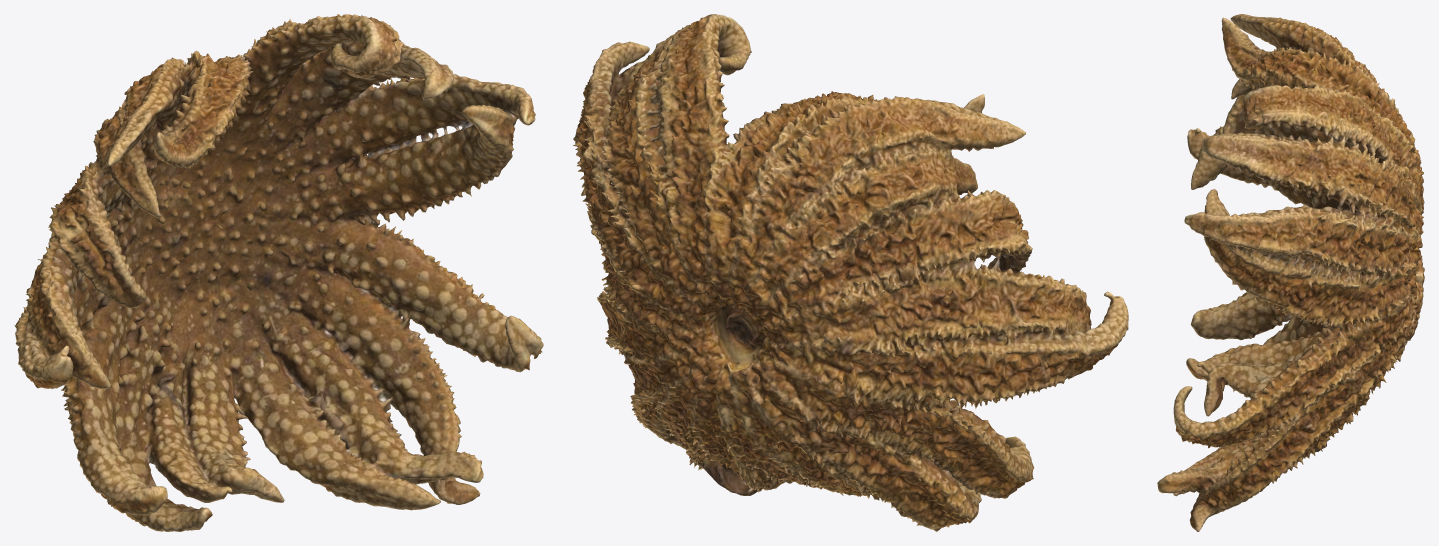
3 renders of one model, left to right at view 1: azimuth 30°, elevation 25°; view 2: azimuth 150°, elevation 25°; view 3: azimuth 270°, elevation 25°, orthographic. The views are drawn at different scales.
Parts seen in each view (by area): view 1: Pycnopodia_helianthoides-unwrapped-webmulti; view 2: Pycnopodia_helianthoides-unwrapped-webmulti; view 3: Pycnopodia_helianthoides-unwrapped-webmulti.
Part boxes in pixels (left/top/right/bottom): Pycnopodia_helianthoides-unwrapped-webmulti: left=14, top=14, right=543, bottom=531; Pycnopodia_helianthoides-unwrapped-webmulti: left=573, top=14, right=1128, bottom=531; Pycnopodia_helianthoides-unwrapped-webmulti: left=1157, top=14, right=1424, bottom=531.
Size of the model in its own units: 6585 by 5848 by 3390.
1 material, 1 textured.
